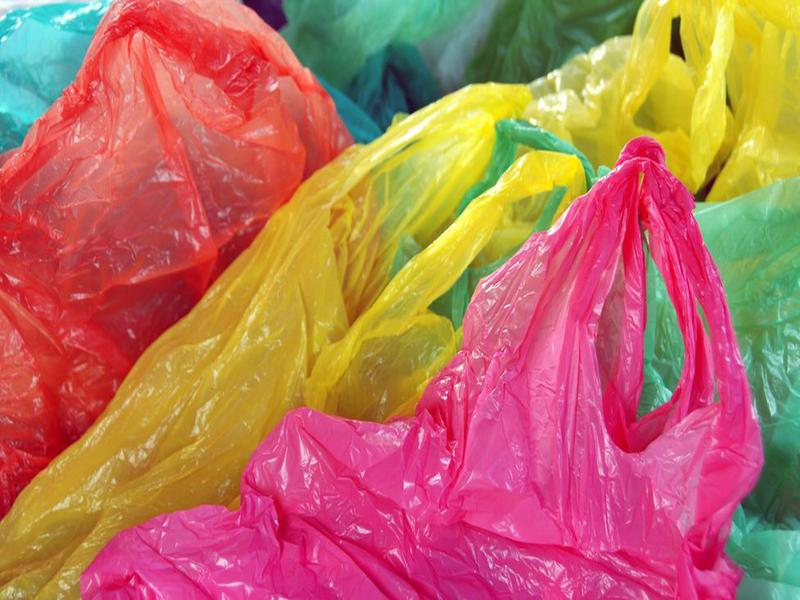plastic: (71, 134, 765, 600), (1, 80, 590, 600), (1, 1, 353, 522), (613, 1, 800, 204)
